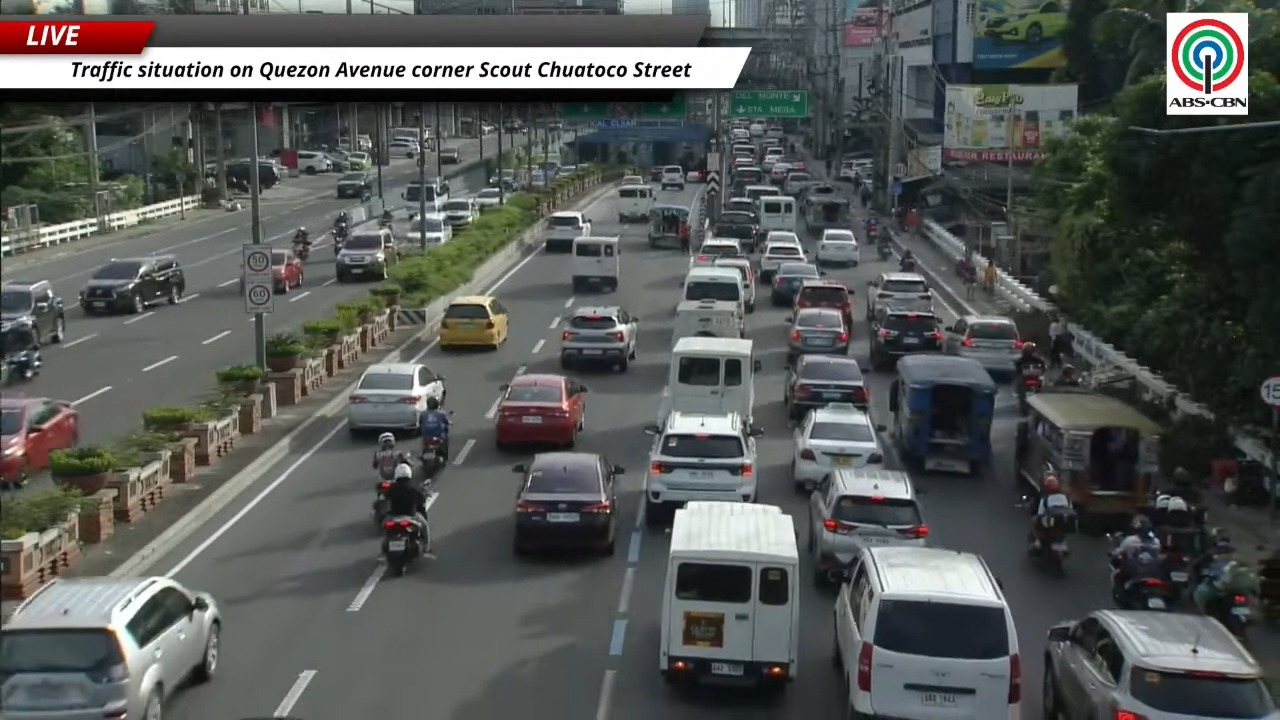car: (832, 544, 1029, 719), (0, 577, 222, 719), (1042, 610, 1276, 719), (808, 464, 928, 584), (643, 411, 762, 526), (513, 452, 623, 554), (792, 403, 884, 489), (346, 363, 445, 435), (0, 396, 78, 486), (495, 374, 587, 449), (79, 255, 185, 313), (784, 354, 869, 420), (560, 306, 637, 371), (943, 315, 1022, 376), (869, 307, 942, 370), (0, 280, 65, 342), (438, 295, 508, 350), (982, 0, 1067, 45), (787, 308, 850, 364), (335, 228, 398, 282), (866, 272, 932, 319), (793, 279, 851, 327), (712, 256, 755, 312), (759, 233, 806, 282), (771, 262, 821, 306), (710, 211, 757, 252), (545, 211, 591, 252), (690, 237, 744, 269), (815, 229, 859, 266), (409, 213, 452, 247), (271, 249, 304, 293), (336, 171, 372, 201), (442, 198, 478, 227), (721, 197, 757, 225), (783, 165, 813, 196), (487, 168, 524, 192), (296, 150, 332, 174), (473, 187, 503, 211), (658, 165, 685, 189), (387, 140, 420, 158), (769, 158, 791, 184), (765, 231, 801, 246), (325, 150, 349, 172), (346, 151, 371, 170), (783, 155, 806, 172), (439, 146, 460, 163), (618, 175, 647, 186), (503, 118, 525, 132), (765, 126, 785, 139), (686, 169, 704, 183), (649, 165, 664, 181), (748, 123, 765, 137), (732, 128, 749, 140)
motorcycle: (1111, 536, 1176, 610), (1029, 512, 1073, 576), (382, 516, 423, 575), (1203, 593, 1251, 638), (1113, 578, 1172, 610), (1163, 546, 1193, 595), (1018, 366, 1043, 415), (420, 436, 446, 479), (372, 480, 391, 526), (332, 225, 348, 254), (292, 238, 309, 261), (877, 243, 892, 260), (899, 258, 915, 271)
